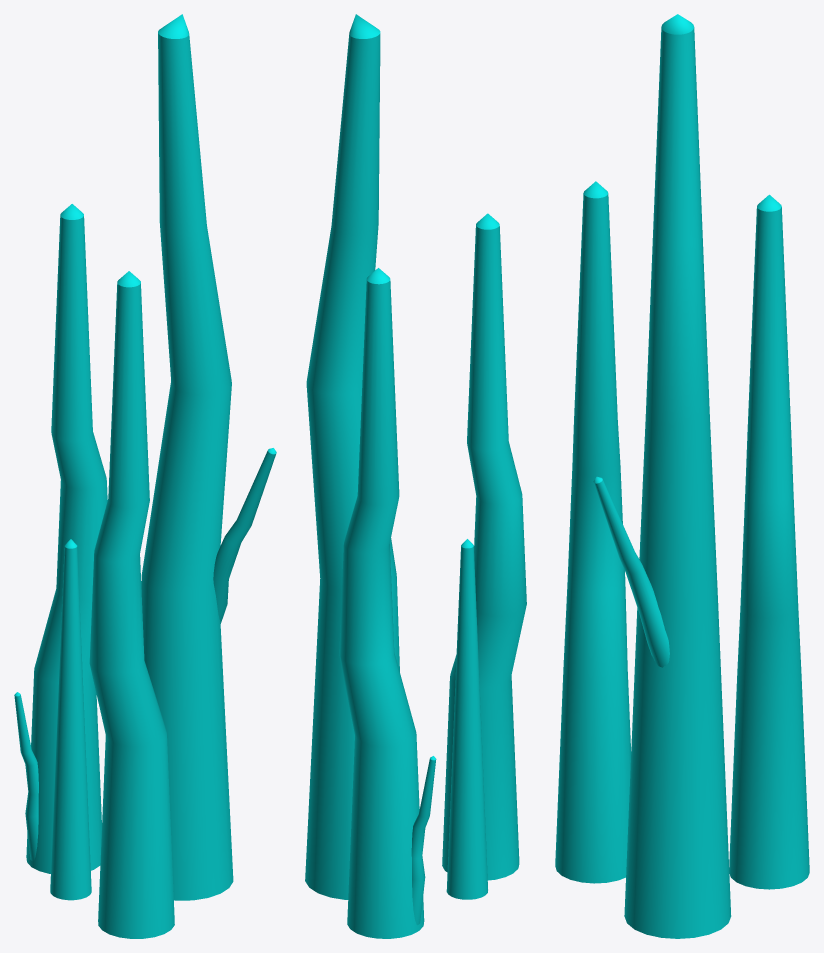
The model's file is CamiPlantOG.fbx.
3 views of the same model, side by side, from view 1: azimuth 30°, elevation 25°; view 2: azimuth 150°, elevation 25°; view 3: azimuth 270°, elevation 25° (orthographic). The views are drawn at different scales.
Visible parts, largest first — view 1: pCylinder4, pCylinder7, pCylinder5, pCylinder6, pCylinder8, pCylinder9; view 2: pCylinder4, pCylinder5, pCylinder7, pCylinder6, pCylinder9; view 3: pCylinder4, pCylinder5, pCylinder7, pCylinder8.
Part boxes in pixels (bbox=[...]): pCylinder4: bbox=[141, 14, 233, 900]; pCylinder7: bbox=[89, 271, 174, 938]; pCylinder5: bbox=[26, 204, 107, 873]; pCylinder6: bbox=[50, 539, 91, 900]; pCylinder8: bbox=[213, 448, 276, 623]; pCylinder9: bbox=[14, 692, 38, 861]; pCylinder4: bbox=[305, 14, 399, 899]; pCylinder5: bbox=[339, 268, 424, 938]; pCylinder7: bbox=[442, 213, 526, 880]; pCylinder6: bbox=[446, 539, 487, 899]; pCylinder9: bbox=[411, 756, 436, 925]; pCylinder4: bbox=[624, 14, 731, 938]; pCylinder5: bbox=[729, 194, 809, 889]; pCylinder7: bbox=[555, 181, 631, 883]; pCylinder8: bbox=[593, 476, 669, 667].
Bounding box in the file's own units: 1.49 × 6.66 × 1.7.
